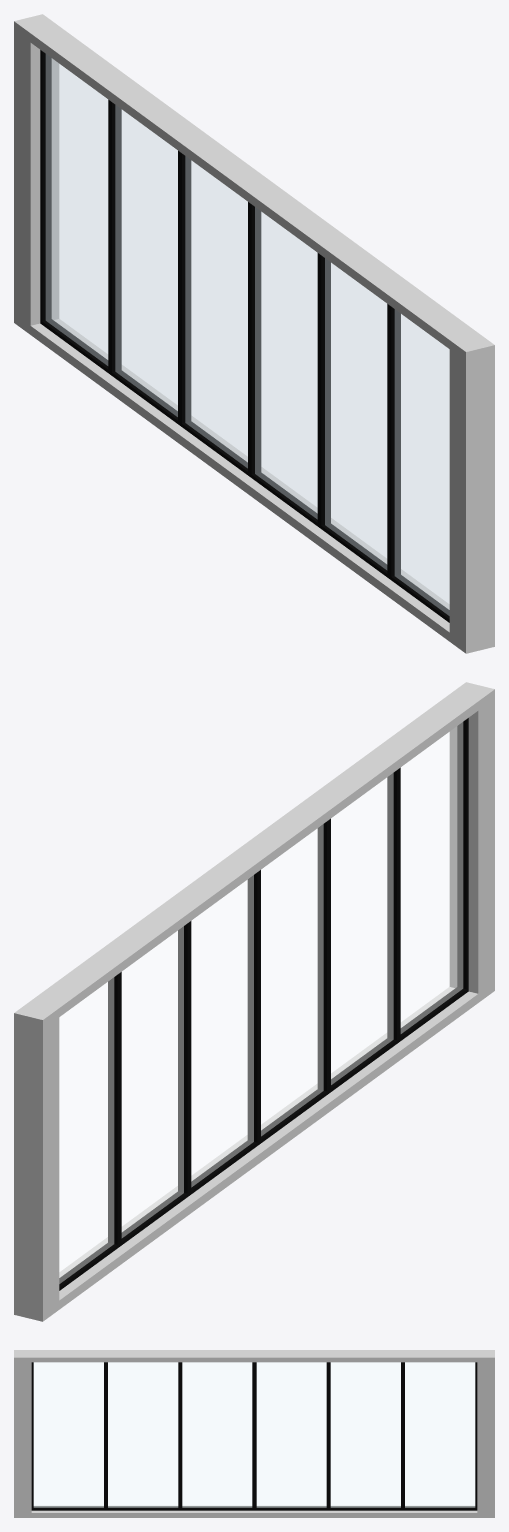
File: Window_Wall02.glb
3 renders of one model, top to bottom at view 1: azimuth 30°, elevation 25°; view 2: azimuth 150°, elevation 25°; view 3: azimuth 270°, elevation 25°, orthographic. The views are drawn at different scales.
Visible parts, largest first — view 1: Window02, Window_Wall02, Window_Frame02; view 2: Window02, Window_Wall02, Window_Frame02; view 3: Window02, Window_Wall02, Window_Frame02.
Boxes of the visible parts, left/top/right/bottom form: Window02: left=46, top=54, right=449, bottom=615; Window_Wall02: left=14, top=14, right=494, bottom=653; Window_Frame02: left=40, top=50, right=449, bottom=622; Window02: left=59, top=722, right=462, bottom=1283; Window_Wall02: left=14, top=682, right=494, bottom=1321; Window_Frame02: left=59, top=718, right=468, bottom=1290; Window02: left=34, top=1362, right=474, bottom=1507; Window_Wall02: left=14, top=1350, right=494, bottom=1517; Window_Frame02: left=31, top=1362, right=477, bottom=1510.
Bounding box in the file's own units: 0.3 × 3 × 8.14.
Materials: 3 (1 with a texture image).
